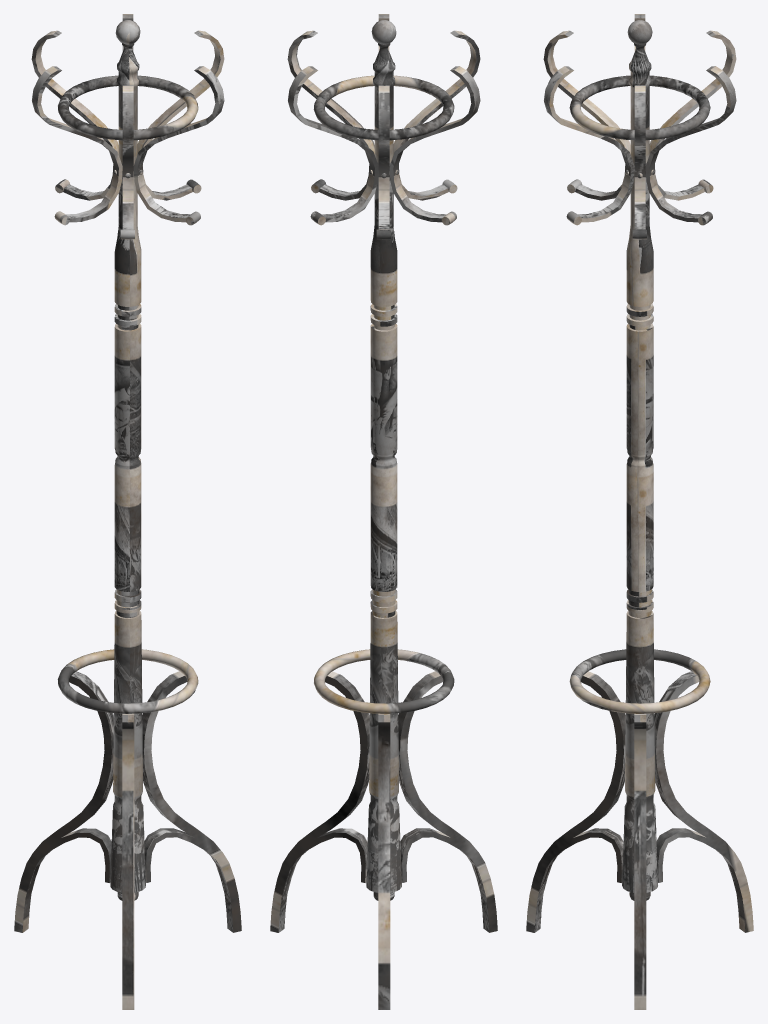
Rendered from cuelgaRopa.obj.
The picture shows the model from 3 angles, left to right: view 1: azimuth 30°, elevation 25°; view 2: azimuth 150°, elevation 25°; view 3: azimuth 270°, elevation 25°; orthographic projection.
Parts seen in each view (by area): view 1: Beam_Material.001_0, Legs_Material.001_0, Hangers_Material.001_0; view 2: Beam_Material.001_0, Legs_Material.001_0, Hangers_Material.001_0; view 3: Beam_Material.001_0, Legs_Material.001_0, Hangers_Material.001_0.
Boxes of the visible parts, bbox=[...] form: Beam_Material.001_0: bbox=[57, 20, 198, 900]; Legs_Material.001_0: bbox=[14, 671, 241, 1009]; Hangers_Material.001_0: bbox=[31, 14, 224, 239]; Beam_Material.001_0: bbox=[313, 20, 454, 900]; Legs_Material.001_0: bbox=[270, 671, 497, 1009]; Hangers_Material.001_0: bbox=[287, 14, 480, 239]; Beam_Material.001_0: bbox=[569, 20, 710, 900]; Legs_Material.001_0: bbox=[526, 671, 753, 1009]; Hangers_Material.001_0: bbox=[543, 14, 736, 239].
Size of the model in its own units: 21.31 by 93.1 by 20.55.
